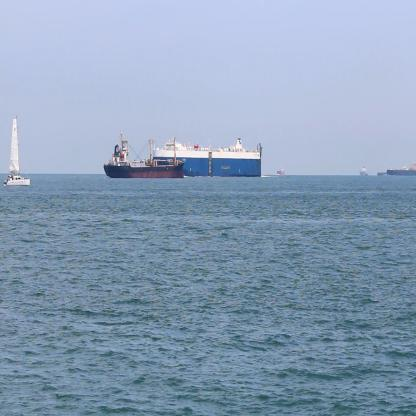Container Ship: (151, 134, 264, 180), (101, 128, 188, 181), (384, 160, 415, 179), (359, 163, 370, 179), (276, 164, 286, 178)
